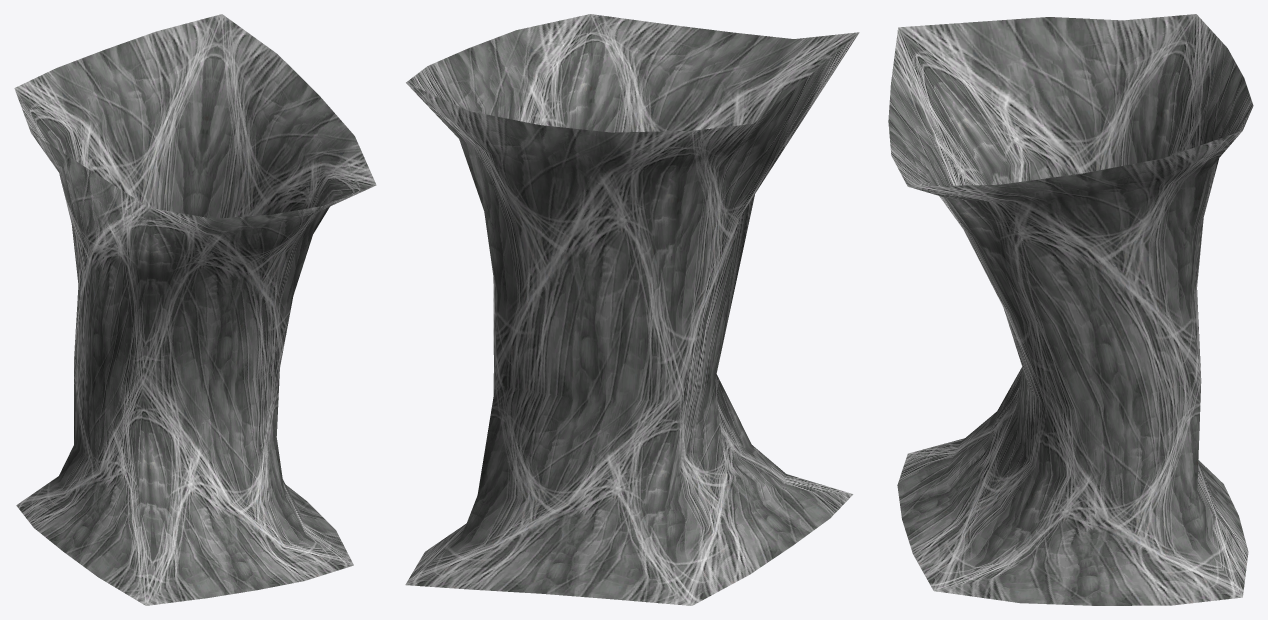
Rendered from SWORDLIGHT20_PS-AREA01_23.fbx.
The picture shows the model from 3 angles, left to right: view 1: azimuth 30°, elevation 25°; view 2: azimuth 150°, elevation 25°; view 3: azimuth 270°, elevation 25°; orthographic projection. The views are drawn at different scales.
Visible parts, largest first — view 1: SWORDLIGHT20_PS-AREA01_23; view 2: SWORDLIGHT20_PS-AREA01_23; view 3: SWORDLIGHT20_PS-AREA01_23.
Boxes of the visible parts, box(x1,y1,x2,y2) form: SWORDLIGHT20_PS-AREA01_23: box(14, 14, 376, 605); SWORDLIGHT20_PS-AREA01_23: box(405, 14, 859, 605); SWORDLIGHT20_PS-AREA01_23: box(888, 14, 1253, 605).
Bounding box in the file's own units: 65263 × 101885 × 72054.
1 material, 1 textured.
